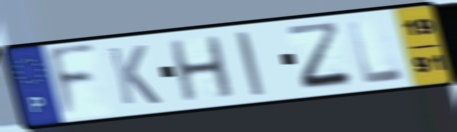F: (45, 41, 99, 123)
H: (166, 33, 238, 104)
I: (232, 29, 269, 99)
K: (104, 43, 164, 107)
L: (345, 17, 408, 87)
Z: (283, 19, 359, 92)
